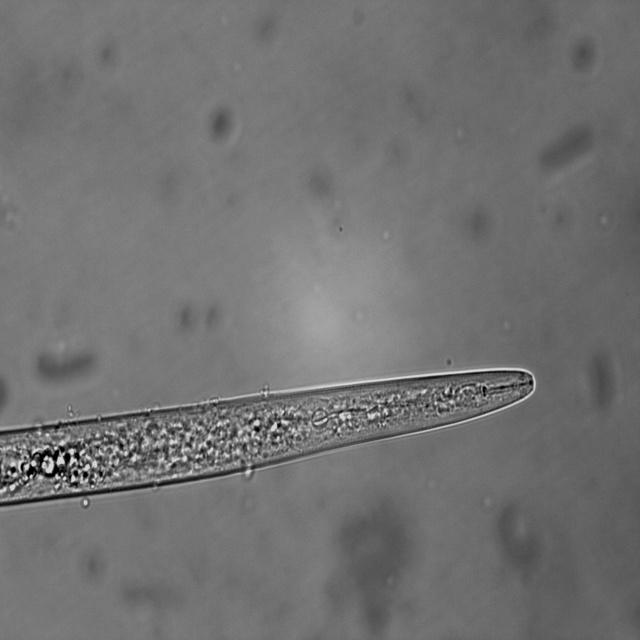Meloidogyne: (0, 364, 546, 506)
